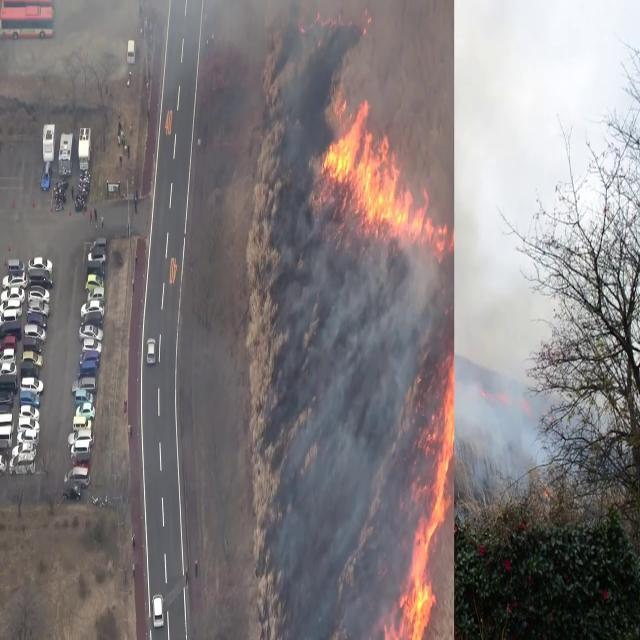Fire: (312, 84, 446, 256), (387, 334, 455, 638)
Smoke: (228, 2, 452, 635), (454, 7, 564, 530)
